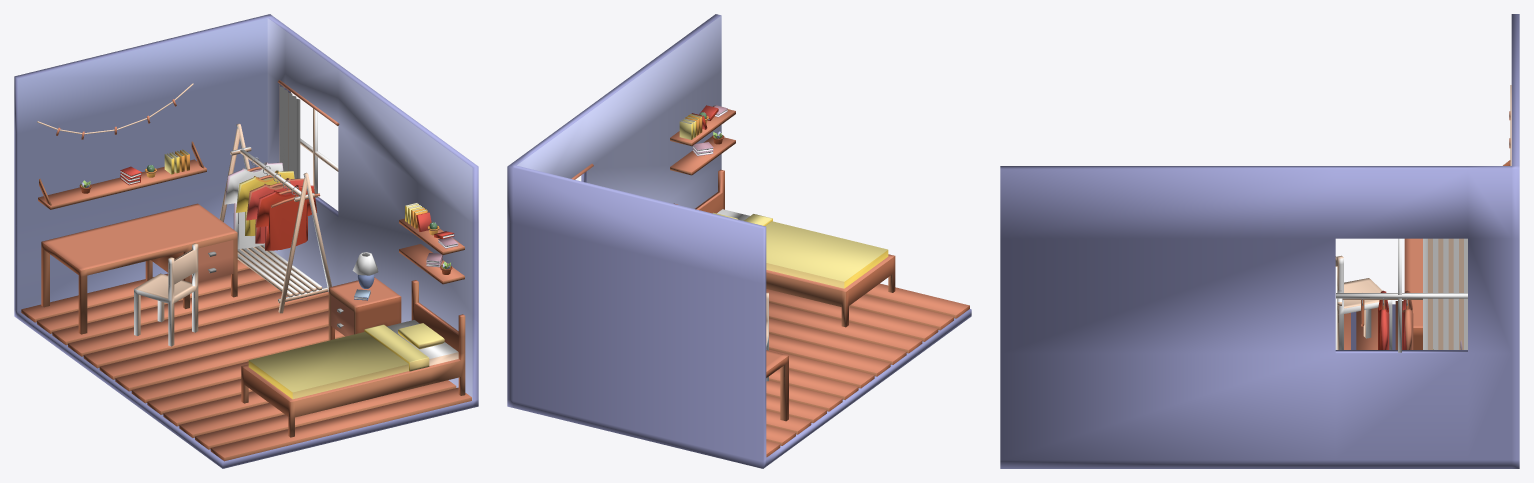
Rendered from room-walls.obj.
3 views of the same model, side by side, from view 1: azimuth 30°, elevation 25°; view 2: azimuth 150°, elevation 25°; view 3: azimuth 270°, elevation 25° (orthographic). The views are drawn at different scales.
Parts seen in each view (by area): view 1: Box001, Box004, Box002, Box007, Box134, Box012, Ellipse001, Box036, rideau, Ellipse004, Ellipse003, Box006 (+5 smaller); view 2: Box001, Box004, Box002, Box006, Box007, Box005; view 3: Box001, rideau, Box012, Box007, Box004, Box010, Ellipse001, Ellipse002.
Boxes of the visible parts, box(x1,y1,x2,y2) form: Box001: box(14, 14, 478, 468); Box004: box(21, 260, 471, 461); Box002: box(241, 280, 465, 437); Box007: box(41, 203, 237, 334); Box134: box(328, 277, 401, 340); Box012: box(134, 243, 198, 346); Ellipse001: box(256, 185, 317, 250); Box036: box(38, 159, 206, 209); rideau: box(279, 85, 300, 178); Ellipse004: box(224, 162, 283, 248); Ellipse003: box(236, 170, 294, 235); Box006: box(399, 244, 464, 284); Box001: box(507, 14, 971, 468); Box004: box(766, 283, 969, 457); Box002: box(674, 169, 895, 327); Box006: box(670, 136, 735, 175); Box007: box(766, 350, 788, 421); Box005: box(670, 105, 735, 146); Box001: box(1000, 14, 1519, 468); rideau: box(1423, 238, 1467, 349); Box012: box(1335, 255, 1392, 349); Box007: box(1404, 238, 1422, 349); Box004: box(1344, 301, 1403, 349); Box010: box(1336, 293, 1467, 298); Ellipse001: box(1378, 290, 1389, 349); Ellipse002: box(1402, 290, 1413, 349).
Bounding box in the file's own units: 111 × 99.98 × 157.
